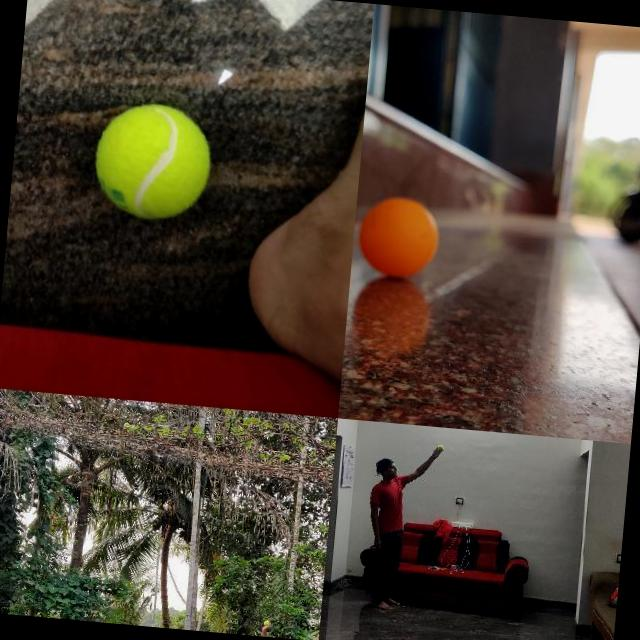Tennis Ball: (88, 98, 215, 224), (437, 444, 444, 451), (264, 620, 268, 626)
